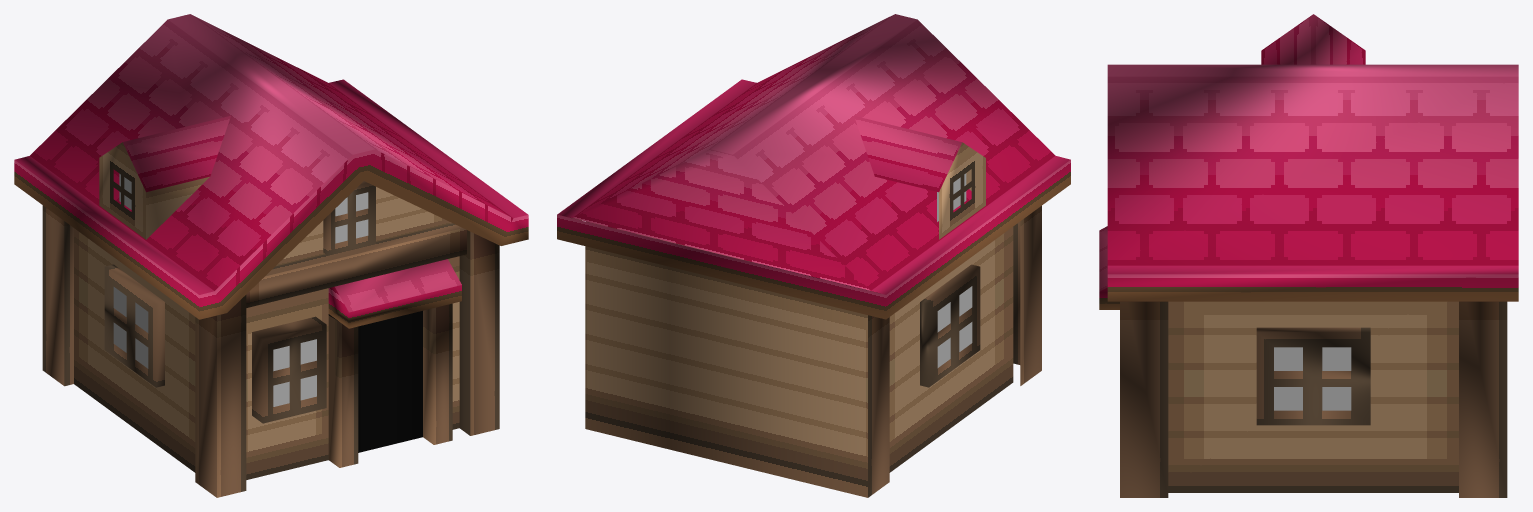
File: BasicHouse.fbx
3 renders of one model, left to right at view 1: azimuth 30°, elevation 25°; view 2: azimuth 150°, elevation 25°; view 3: azimuth 270°, elevation 25°, orthographic. The views are drawn at different scales.
Parts seen in each view (by area): view 1: Mistralton City House; view 2: Mistralton City House; view 3: Mistralton City House.
Boxes of the visible parts, <box> form: Mistralton City House: <box>14,14,528,497</box>; Mistralton City House: <box>557,14,1070,497</box>; Mistralton City House: <box>1099,14,1518,497</box>.
Bounding box in the file's own units: 698 × 639 × 694.
